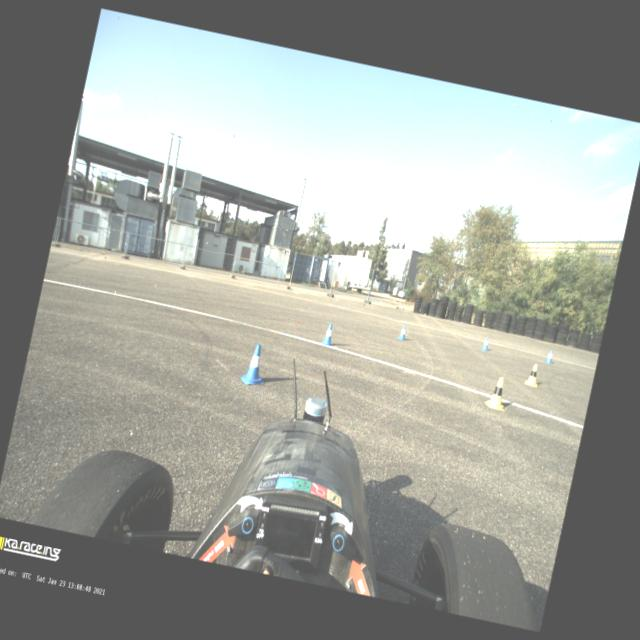blue_cone: (239, 340, 272, 388), (320, 321, 338, 347), (544, 348, 556, 364), (397, 324, 408, 341), (480, 336, 490, 352)
yellow_cone: (483, 374, 511, 411), (524, 362, 540, 388)
